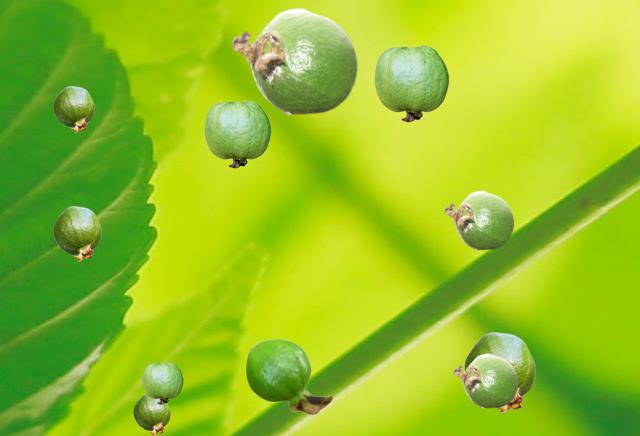guava: (231, 7, 357, 114), (245, 338, 332, 414), (374, 45, 448, 121), (464, 332, 534, 412), (204, 100, 270, 167), (444, 190, 513, 249), (453, 353, 517, 407), (53, 206, 100, 260), (53, 86, 93, 131), (142, 362, 182, 403), (133, 394, 169, 434)
